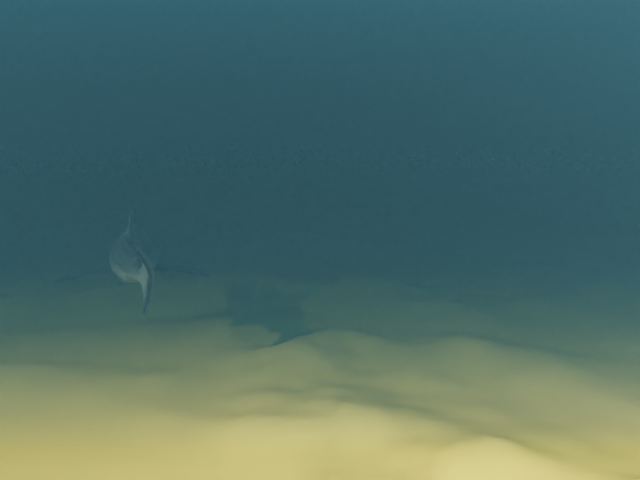Carribean Shark.001: (53, 203, 211, 314)
